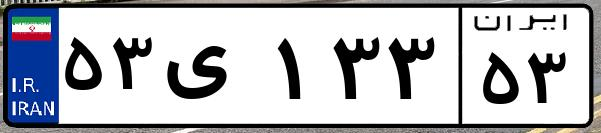1: (270, 28, 330, 110)
3: (385, 28, 445, 110), (330, 28, 385, 110), (525, 38, 570, 115), (110, 28, 158, 98)
5: (57, 26, 110, 100), (475, 38, 525, 113)
ی: (158, 20, 270, 120)
